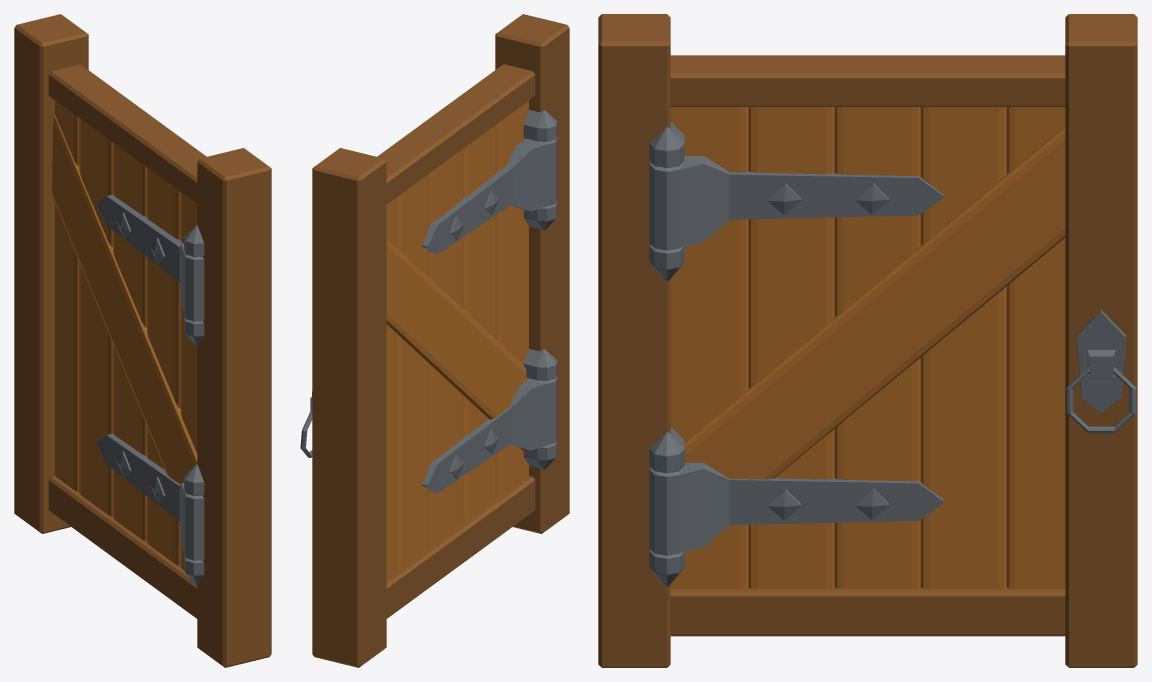
File: wooden_door.glb
The picture shows the model from 3 angles, left to right: view 1: azimuth 30°, elevation 25°; view 2: azimuth 150°, elevation 25°; view 3: azimuth 270°, elevation 25°; orthographic projection. The views are drawn at different scales.
Parts seen in each view (by area): view 1: frame, wooden_board, diag_board, top_hinge, bottom_hinge; view 2: frame, wooden_board, diag_board, top_hinge, bottom_hinge; view 3: wooden_board, frame, diag_board, top_hinge, bottom_hinge, door_handle, circle_handle, handle.
Part boxes in pixels (bbox=[...]): frame: bbox=[14, 14, 271, 667]; wooden_board: bbox=[55, 101, 197, 570]; diag_board: bbox=[52, 115, 197, 491]; top_hinge: bbox=[96, 194, 204, 345]; bottom_hinge: bbox=[96, 433, 204, 584]; frame: bbox=[312, 14, 569, 667]; wooden_board: bbox=[386, 100, 528, 579]; diag_board: bbox=[386, 239, 528, 452]; top_hinge: bbox=[422, 109, 557, 254]; bottom_hinge: bbox=[422, 349, 557, 493]; wooden_board: bbox=[670, 107, 1065, 588]; frame: bbox=[598, 14, 1137, 667]; diag_board: bbox=[684, 126, 1065, 479]; top_hinge: bbox=[649, 122, 943, 281]; bottom_hinge: bbox=[649, 427, 943, 586]; door_handle: bbox=[1076, 310, 1126, 413]; circle_handle: bbox=[1066, 367, 1136, 433]; handle: bbox=[1087, 350, 1115, 378].
Bounding box in the file's own units: 0.6615 × 4.2 × 3.27.
1 material, 1 textured.
